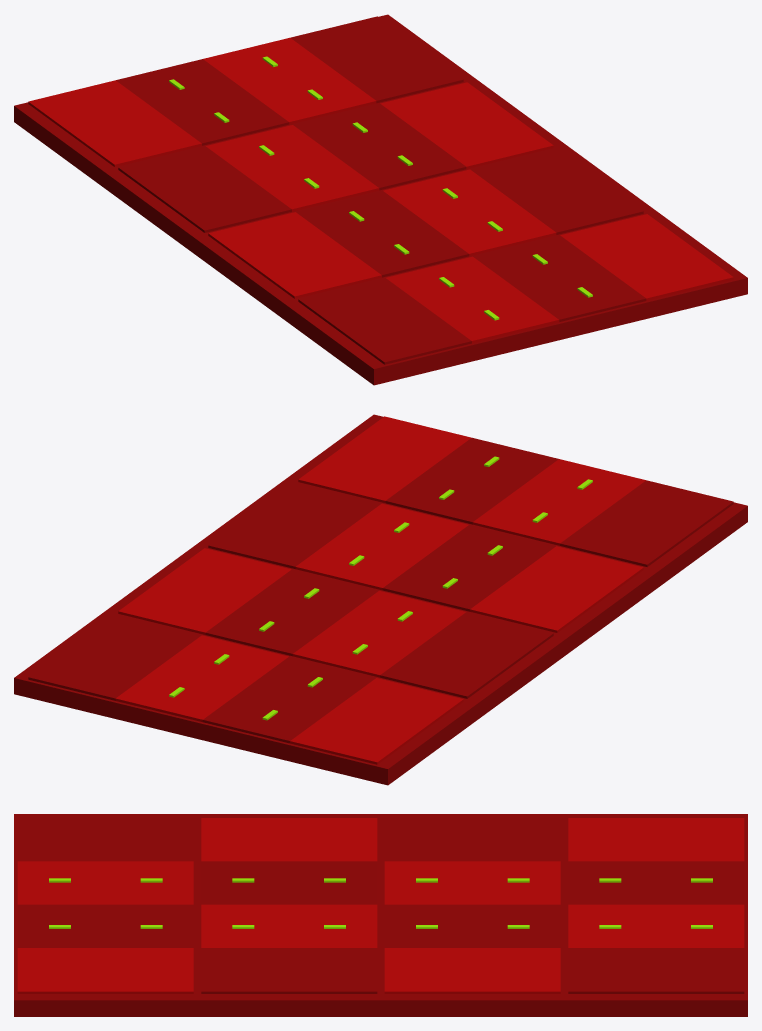
File: trench_floor.glb
3 views of the same model, one above another, from view 1: azimuth 30°, elevation 25°; view 2: azimuth 150°, elevation 25°; view 3: azimuth 270°, elevation 25° (orthographic).
Visible parts, largest first — view 1: trench_floor; view 2: trench_floor; view 3: trench_floor.
Part boxes in pixels (left/top/right/bottom): trench_floor: left=14, top=14, right=747, bottom=385; trench_floor: left=14, top=414, right=747, bottom=785; trench_floor: left=14, top=814, right=747, bottom=1016.
Size of the model in its own units: 24 by 1.26 by 40.
